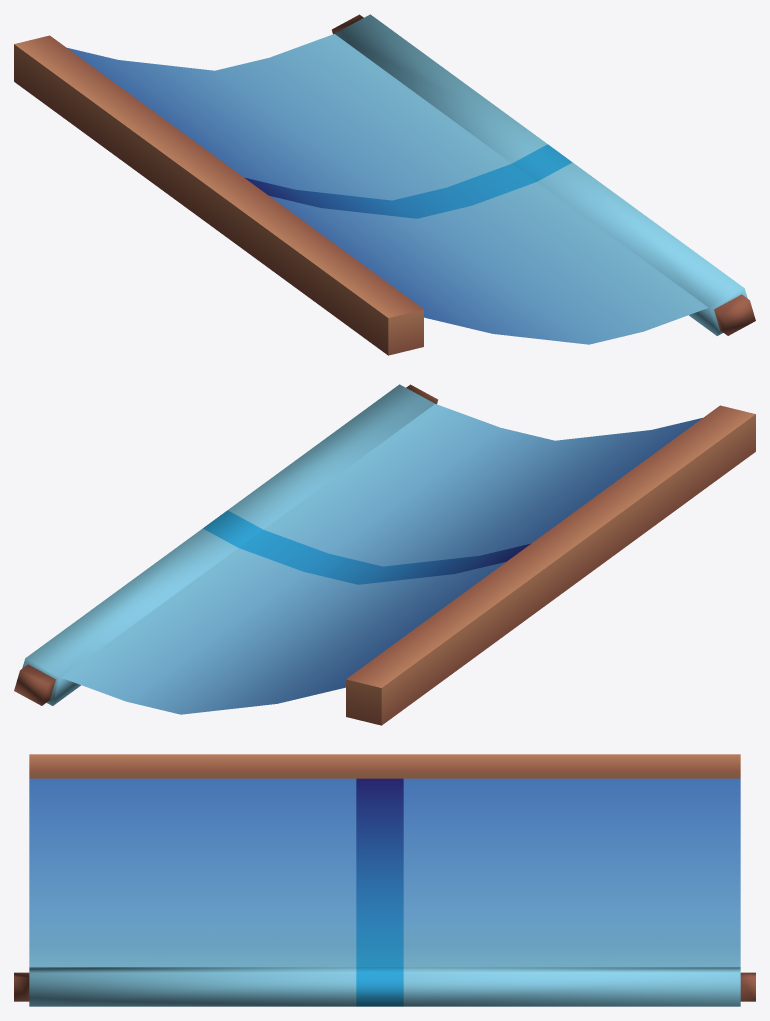
Rendered from Parasol04.fbx.
The picture shows the model from 3 angles, top to bottom: view 1: azimuth 30°, elevation 25°; view 2: azimuth 150°, elevation 25°; view 3: azimuth 270°, elevation 25°; orthographic projection. The views are drawn at different scales.
Parts seen in each view (by area): view 1: Parasol04; view 2: Parasol04; view 3: Parasol04.
Boxes of the visible parts, x1,y1,x2,y2 form: Parasol04: (14,14,755,355); Parasol04: (14,384,755,725); Parasol04: (14,754,755,1006).
Bounding box in the file's own units: 0.8901 × 0.2294 × 1.65.
1 material, 1 textured.
